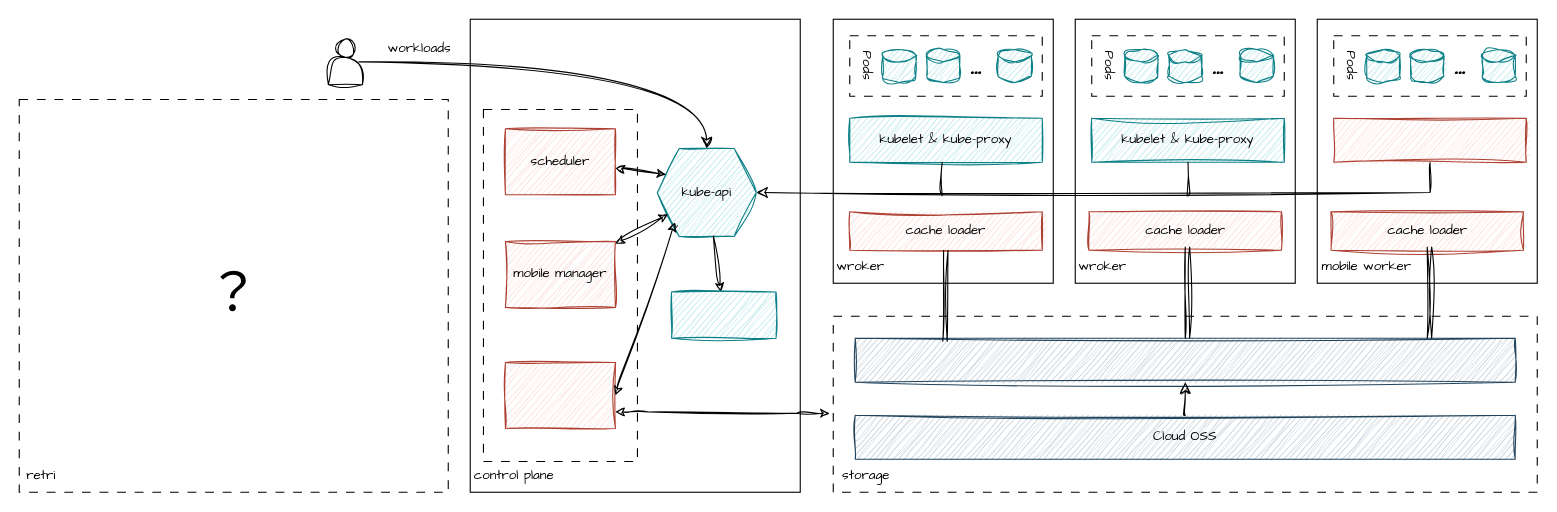
This 1557x512 diagram has some shape labels left out. The shapes that lost their labels are listed below. From the top down, each one's centre as x and y in pixels, then its label:
the point at 1429,139: mobile core
the point at 723,314: etcd
the point at 1184,359: Edge Storage
the point at 559,394: cache manager
